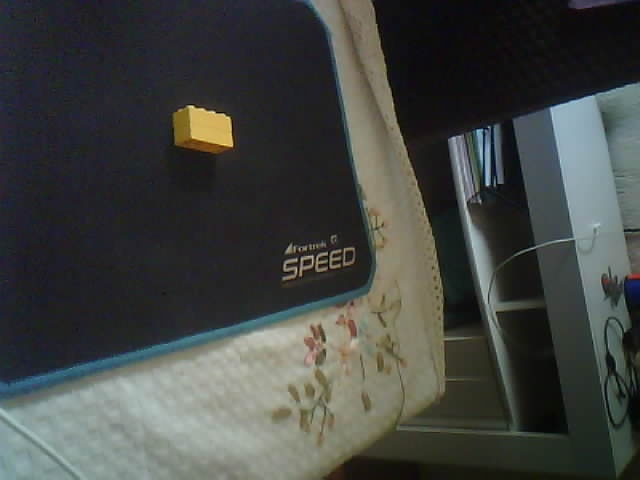lego: (172, 105, 234, 154)
